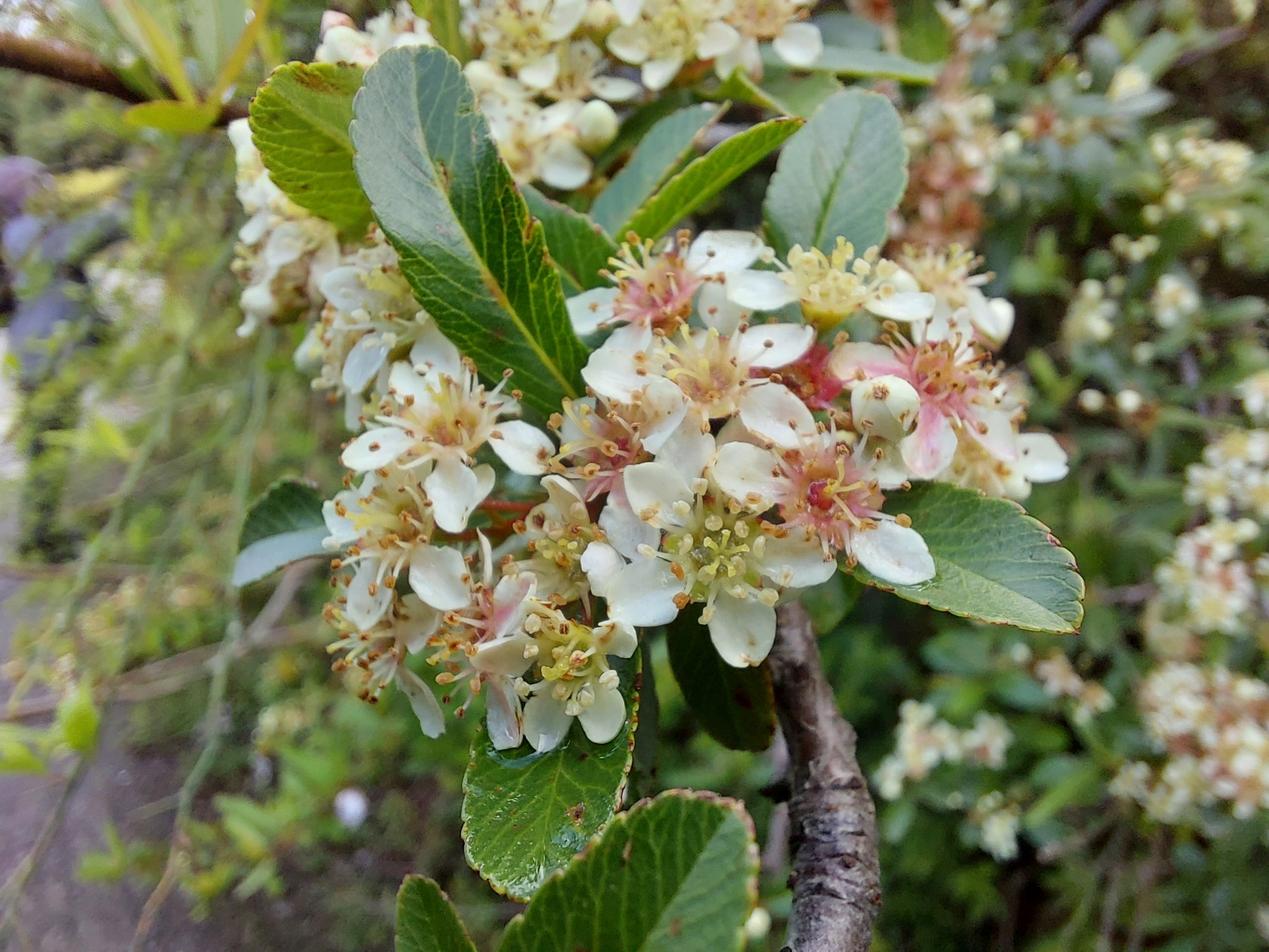Himalayan Firethorn: (236, 119, 1060, 714)
